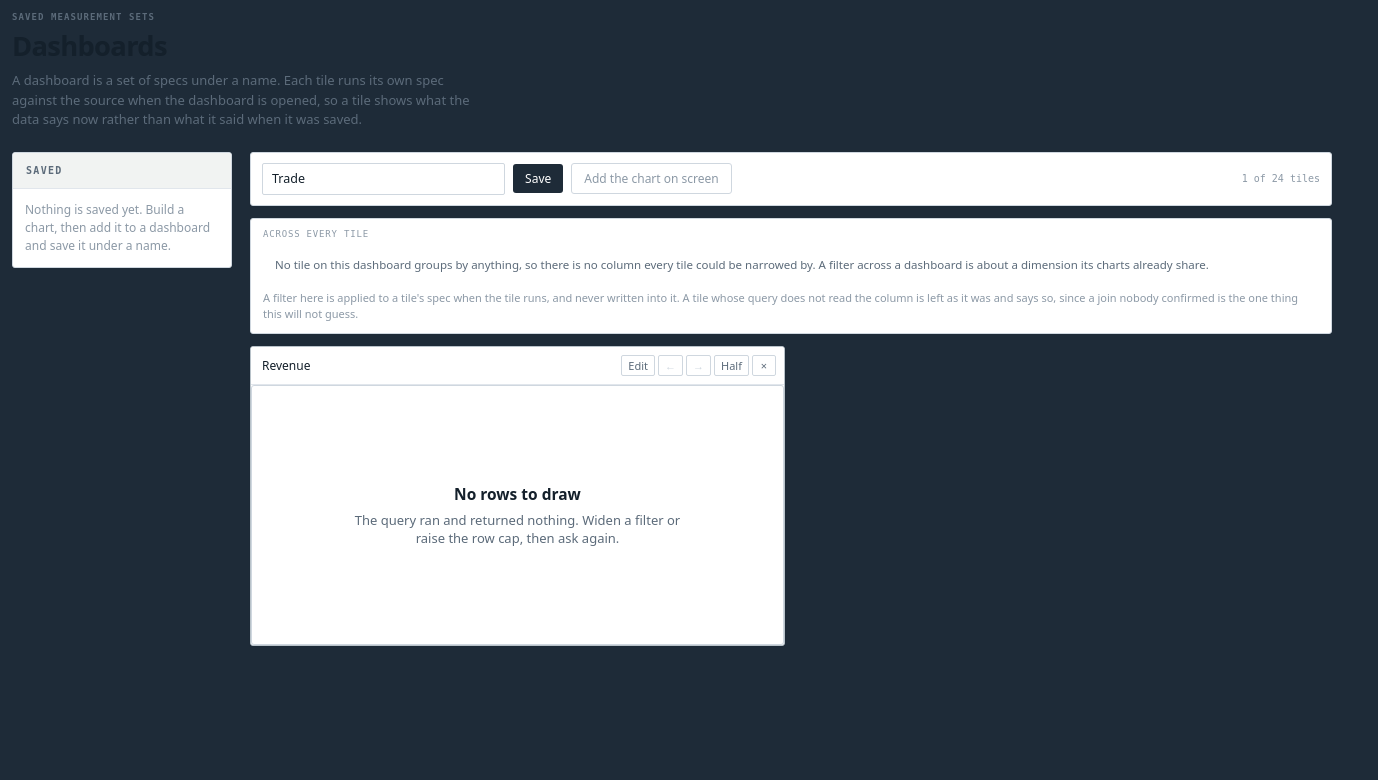
saving a dashboard › announces the confirmation politely and the refusal as an alert
Click the button "Save". click: [538, 178]
box: [513,164,563,193]
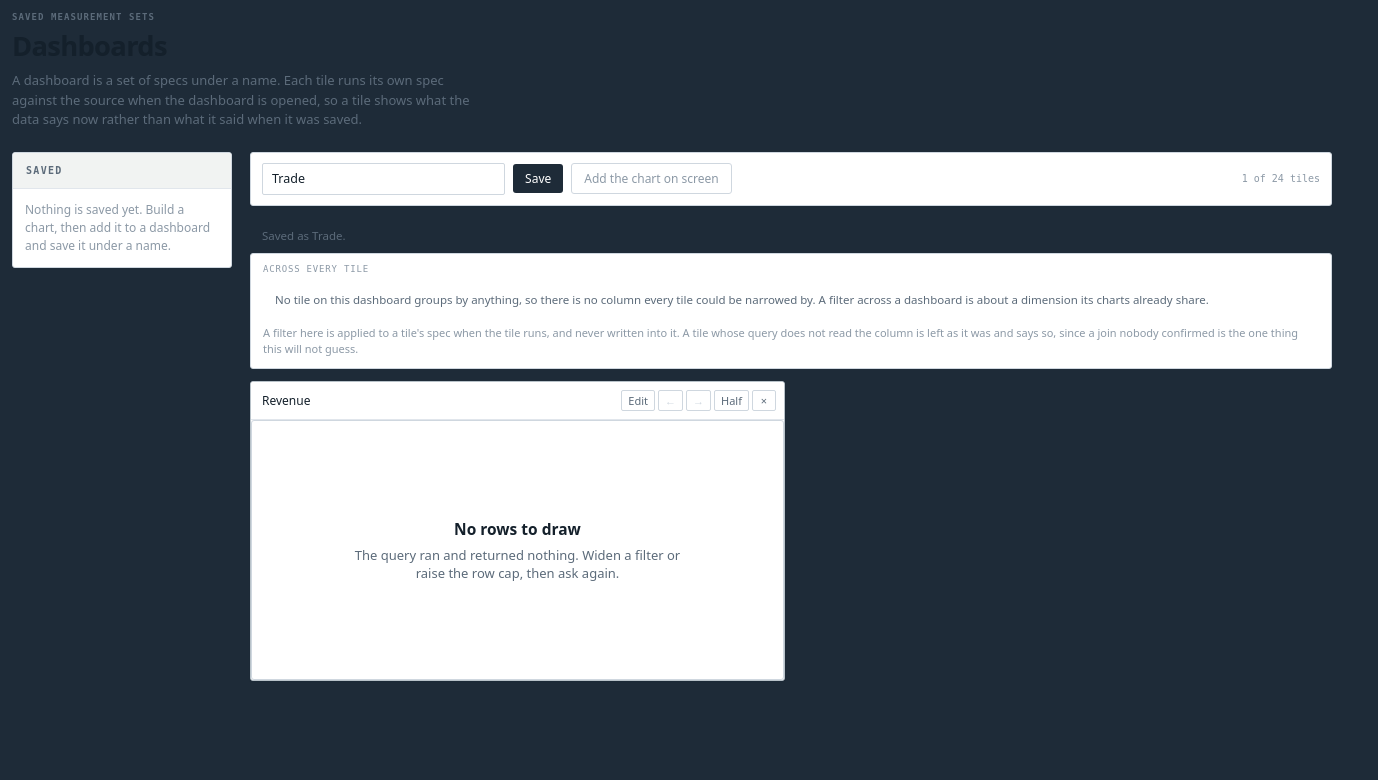
Check: the message shows "Saved as Trade", box [262,228,346,242]
